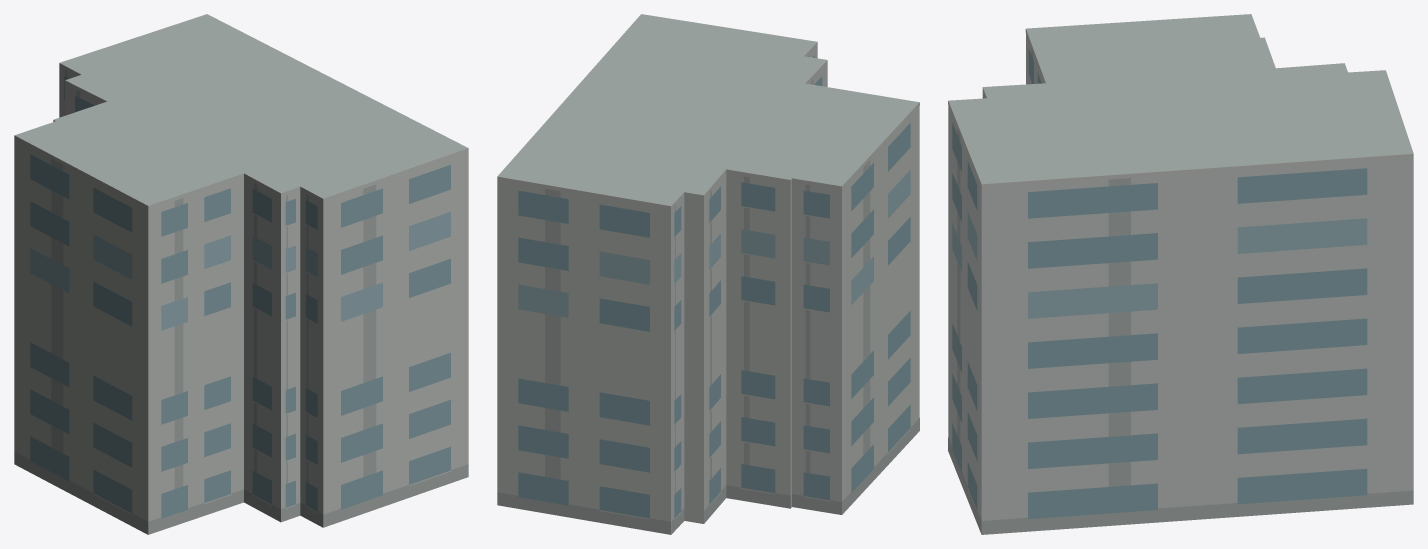
Rendered from survey-upis-32679157.glb.
3 views of the same model, side by side, from view 1: azimuth 30°, elevation 25°; view 2: azimuth 150°, elevation 25°; view 3: azimuth 270°, elevation 25° (orthographic). The views are drawn at different scales.
Visible parts, largest first — view 1: survey-upis-32679157.tmp; view 2: survey-upis-32679157.tmp; view 3: survey-upis-32679157.tmp.
Part boxes in pixels (x1=…): survey-upis-32679157.tmp: x1=14, y1=14, x2=468, y2=534; survey-upis-32679157.tmp: x1=497, y1=14, x2=919, y2=534; survey-upis-32679157.tmp: x1=948, y1=14, x2=1413, y2=534.
Bounding box in the file's own units: 21.26 × 20.4 × 24.56.
